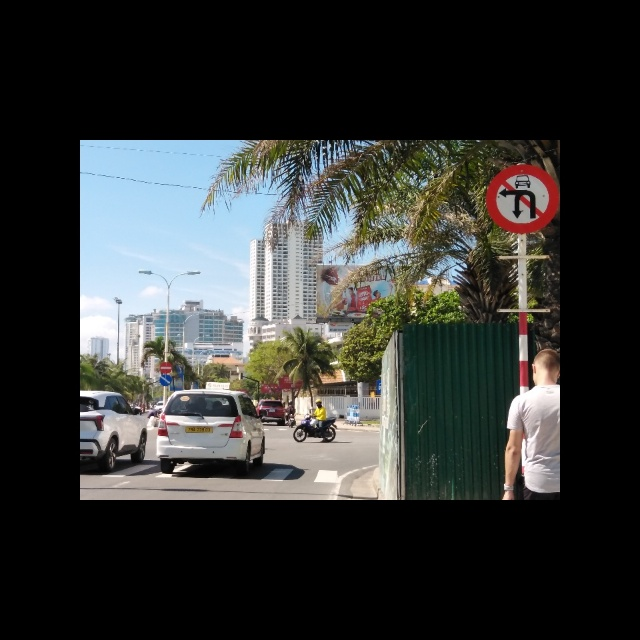Cấm xe ô tô quay đầu và rẽ trái: (486, 163, 559, 234)
